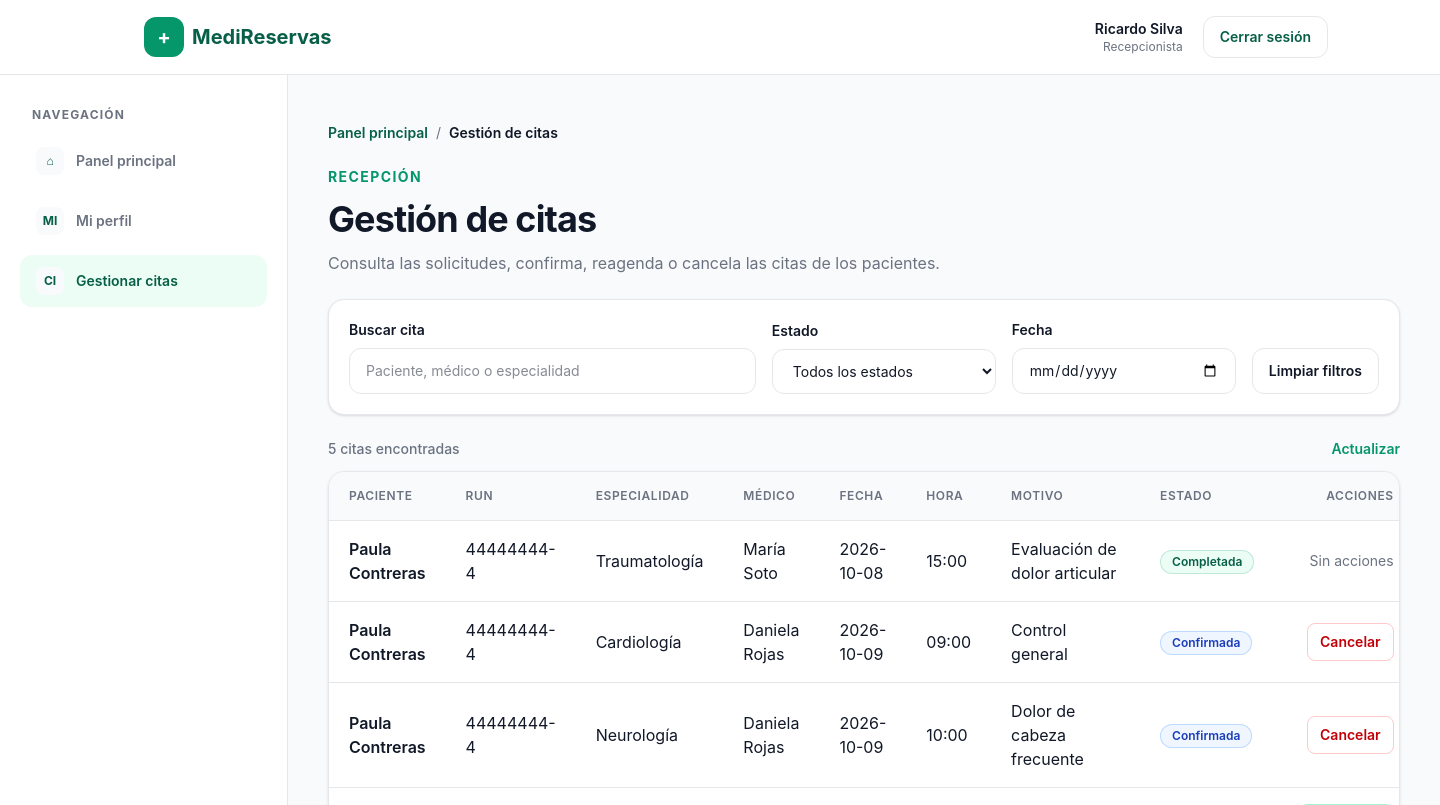
Test: Requisitos de citas en las pantallas por rol › CP-073 · RF-19 · recepción filtra las solicitudes por estado y fecha
In the search field labelled "Buscar cita": [552, 371] box [349,348,756,394], type "Paula"
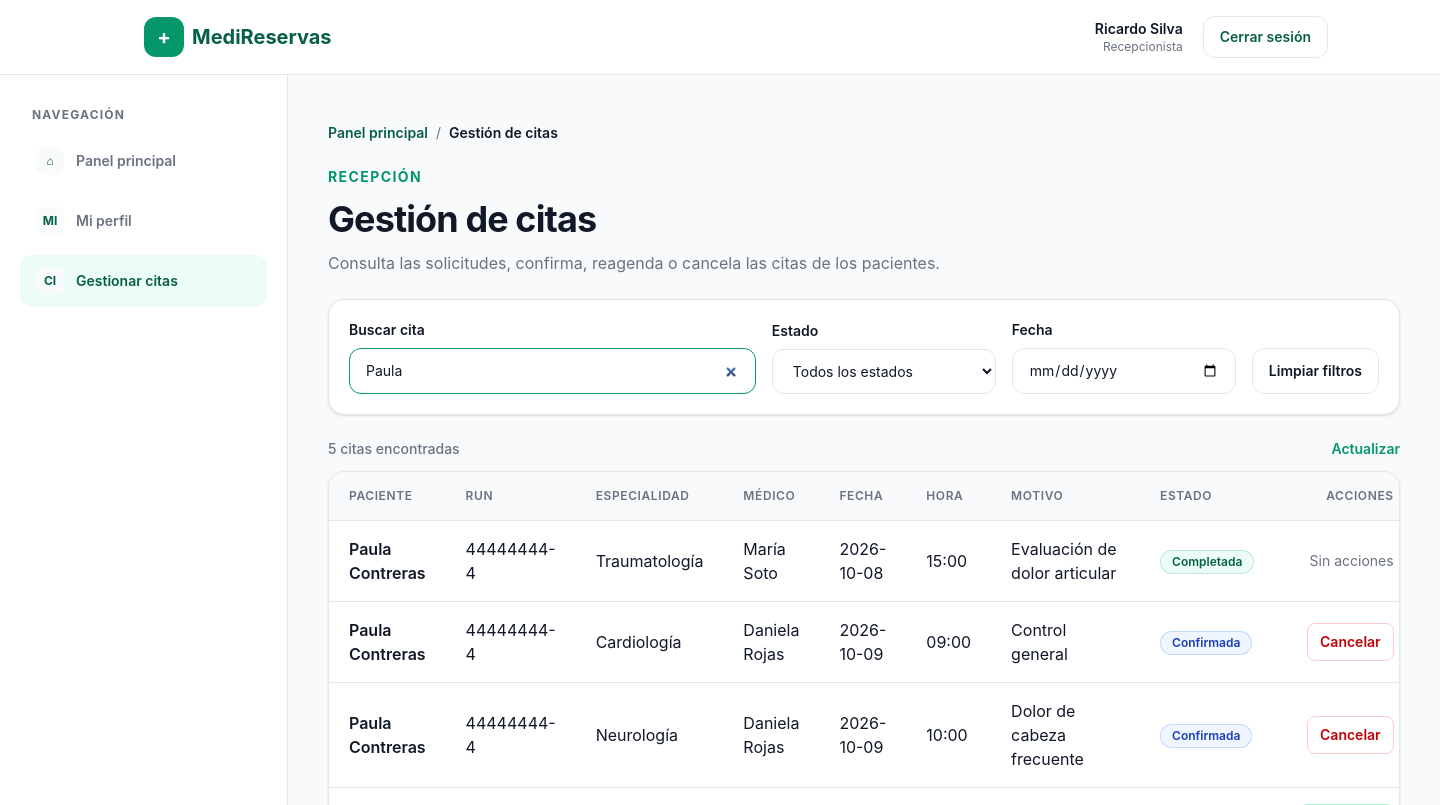
Select "Pendientes" in the dropdown labelled "Estado": [884, 372] box [772,349,996,394]
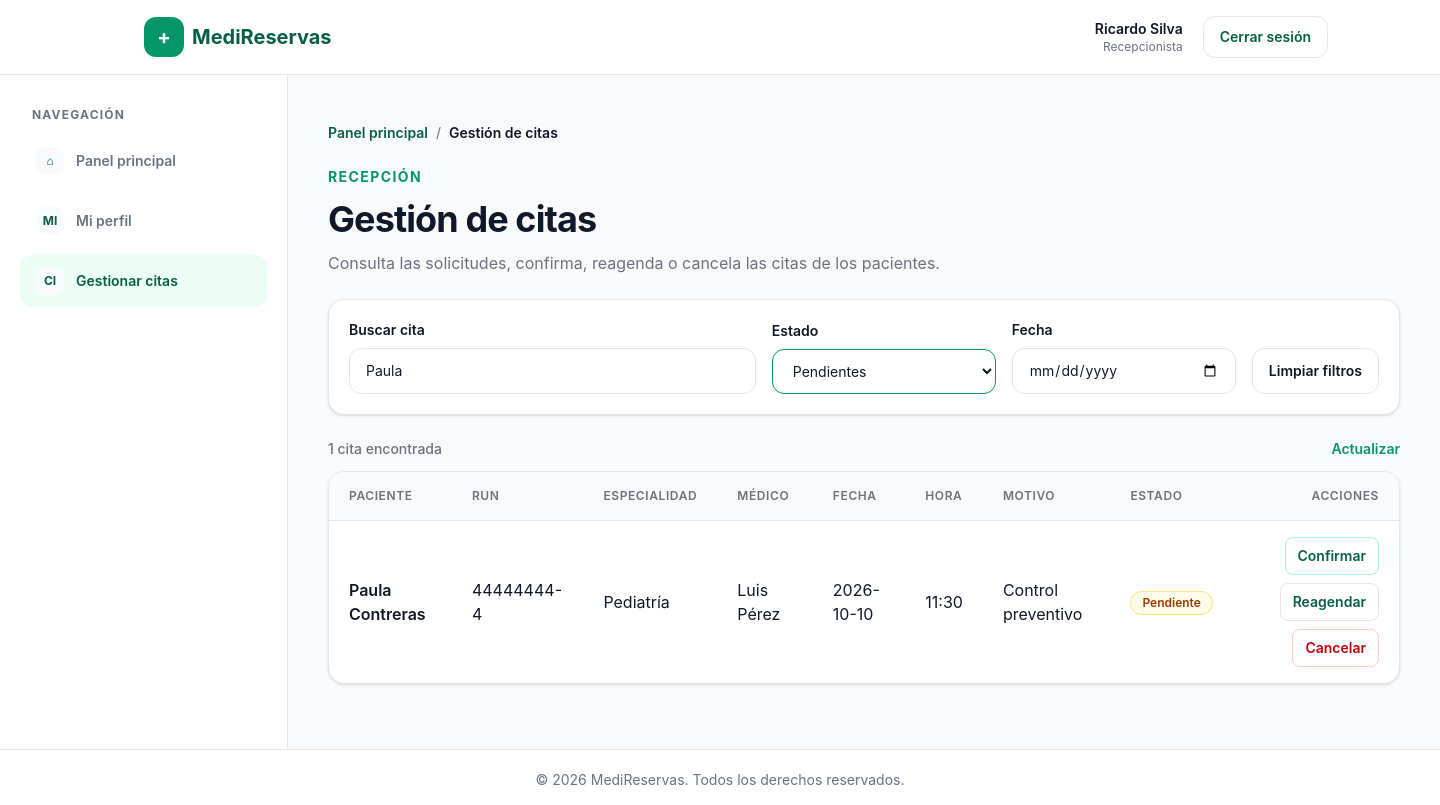
In the date field labelled "Fecha": [1124, 371] box [1012,348,1236,394], type "2026-10-10"
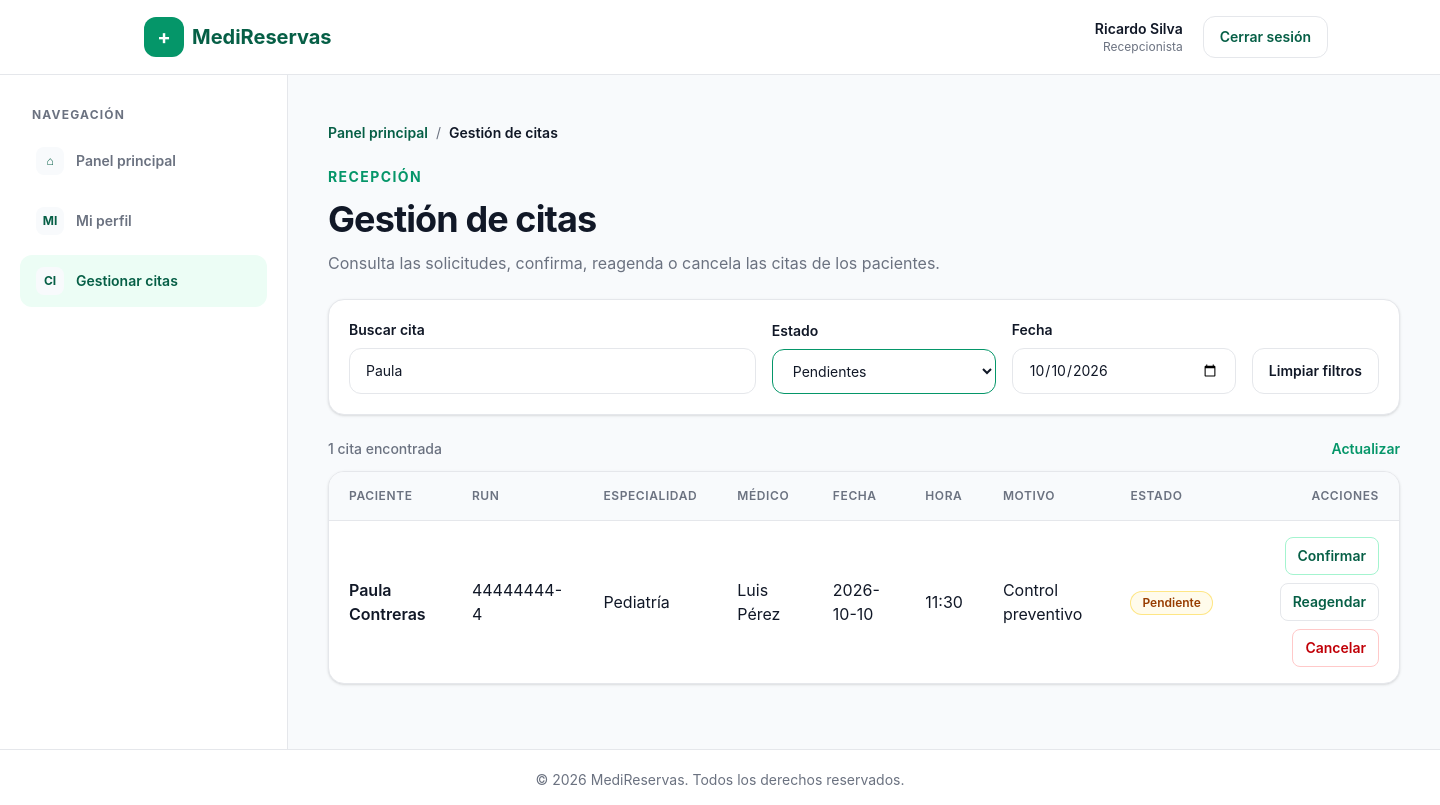
Expected: the text "Control preventivo" is shown, [983,521,1110,683]
Expected: the text "Control general" is not shown
Click the button "Limpiar filtros": [1315, 371] box [1252,348,1379,394]
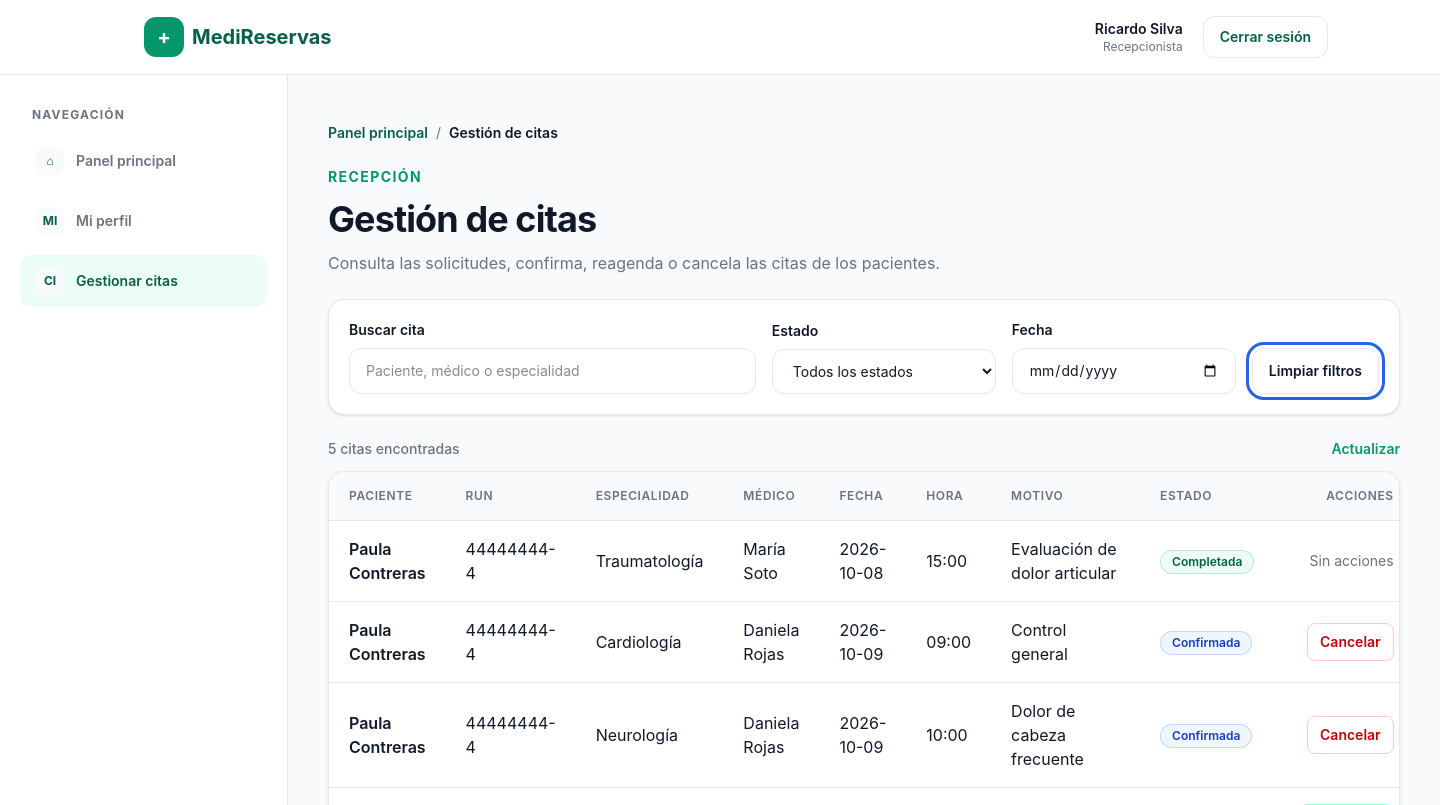
Expected: the text "5 citas encontradas" is shown, [328,439,460,459]
